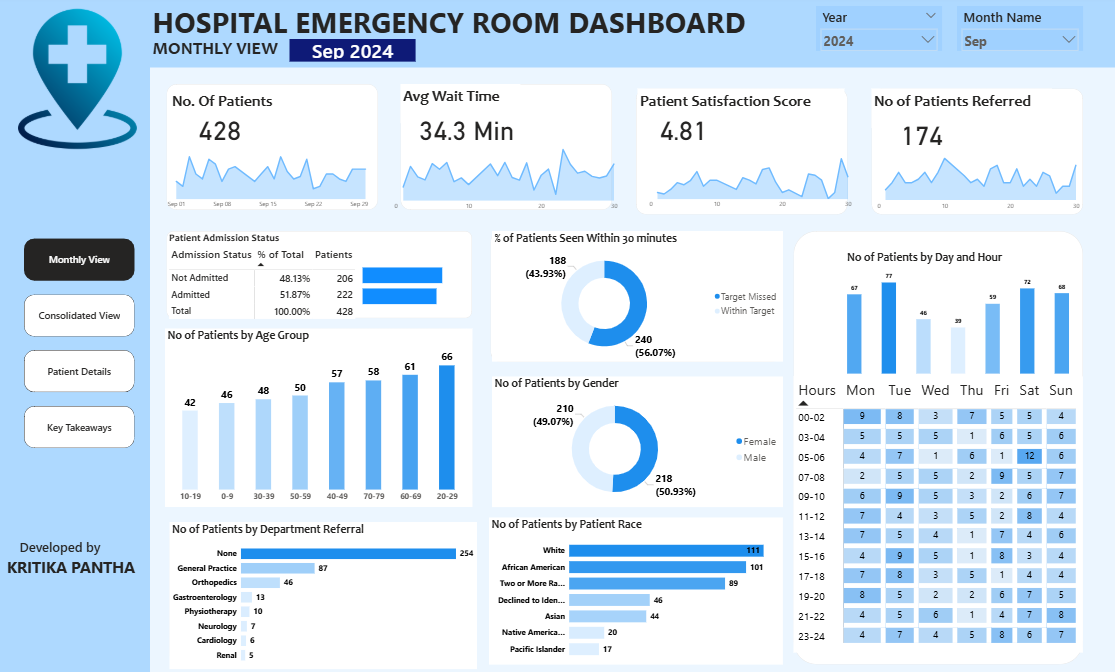

Layout of this report page (visuals, bound fields, positions):
{"tool":"powerbi","page":{"name":"Monthly View","canvas":[2300,1400],"ordinal":0},"visuals":[{"type":"shape","box":[343.3,173.2,436.1,259.8],"z":0},{"type":"textbox","box":[349.5,182.5,256.7,71.1],"z":1000},{"type":"shape","box":[0,0,309.3,1401.1],"z":2000},{"type":"shape","box":[309.3,0,1991.8,139.2],"z":3000},{"type":"textbox","box":[309.3,0,1246.4,92.8],"z":4000},{"type":"textbox","box":[309.3,71.1,355.7,68],"z":5000},{"type":"card","fields":{"Values":["Hospital ER_Data.No of Patients"]},"box":[371.1,222.7,163.9,80.4],"z":6000},{"type":"slicer","fields":{"Values":["Date Table.Year"]},"box":[1682.5,12.4,259.8,92.8],"z":7000},{"type":"slicer","fields":{"Values":["Date Table.month name"]},"box":[1973.2,12.4,259.8,92.8],"z":8000},{"type":"stackedAreaChart","fields":{"Category":["Date Table.Date.Variation.Date Hierarchy.Year","Date Table.Date.Variation.Date Hierarchy.Quarter","Date Table.Date.Variation.Date Hierarchy.Month","Date Table.Date.Variation.Date Hierarchy.Day"],"Y":["Hospital ER_Data.No of Patients"]},"box":[340.2,293.8,436.1,145.4],"z":9000},{"type":"card","fields":{"Values":["Min(Date Table.Month & Year)"]},"box":[596.9,80.4,259.8,46.4],"z":10000},{"type":"shape","box":[825.8,173.9,436.1,259.8],"z":11000},{"type":"textbox","box":[825.8,173.2,247.4,80.4],"z":12000},{"type":"card","fields":{"Values":["Hospital ER_Data.Avg Wait Time"]},"box":[850.5,222.7,222.7,80.4],"z":13000},{"type":"stackedAreaChart","fields":{"Category":["Date Table.Date.Variation.Date Hierarchy.Day"],"Y":["Avg(Hospital ER_Data.Patient Waittime)"]},"box":[801,278.4,479.4,163.9],"z":14000},{"type":"shape","box":[1311.4,182.5,436.1,259.8],"z":15000},{"type":"textbox","box":[1314.5,182.5,426.8,80.4],"z":16000},{"type":"card","fields":{"Values":["Hospital ER_Data.Satisfaction Score"]},"box":[1326.8,222.7,163.9,80.4],"z":17000},{"type":"stackedAreaChart","fields":{"Category":["Date Table.Date.Variation.Date Hierarchy.Day"],"Y":["Hospital ER_Data.Satisfaction Score"]},"box":[1326.8,293.8,436.1,145.4],"z":18000},{"type":"shape","box":[1796.9,182.5,436.1,259.8],"z":19000},{"type":"textbox","box":[1796.9,182.5,371.1,80.4],"z":20000},{"type":"card","fields":{"Values":["Hospital ER_Data.No of Patient Referred"]},"box":[1818.6,232,163.9,80.4],"z":21000},{"type":"stackedAreaChart","fields":{"Category":["Date Table.Date.Variation.Date Hierarchy.Day"],"Y":["Hospital ER_Data.No of Patient Referred"]},"box":[1796.9,290.7,436.1,151.5],"z":22000},{"type":"shape","box":[343.3,476.3,630,180],"z":23000},{"type":"pivotTable","title":"Patient Admission Status","fields":{"Rows":["Hospital ER_Data.Admission Status"],"Values":["Hospital ER_Data.No of Patients","Hospital ER_Data.No of Patients1"]},"box":[343.3,476.3,630.9,201],"z":24000},{"type":"barChart","fields":{"Category":["Hospital ER_Data.Admission Status"],"Y":["Hospital ER_Data.No of Patients"]},"box":[742.3,516.5,232,139.2],"z":25000},{"type":"shape","box":[340.2,677.3,634,368],"z":26000},{"type":"clusteredColumnChart","fields":{"Category":["Hospital ER_Data.Age Group"],"Y":["Hospital ER_Data.No of Patients"]},"box":[340.2,677.3,634,368],"z":27000},{"type":"shape","box":[349.5,1076.3,634,293.8],"z":28000},{"type":"shape","box":[1011.4,476.3,600,270],"z":29000},{"type":"clusteredBarChart","fields":{"Category":["Hospital ER_Data.Department Referral"],"Y":["Hospital ER_Data.No of Patients"]},"box":[349.5,1076.3,634,303.1],"z":30000},{"type":"donutChart","title":"% of Patients Seen Within 30 minutes","fields":{"Category":["Hospital ER_Data.Waittime Status"],"Y":["Hospital ER_Data.No of Patients"]},"box":[1014.5,476.3,600,269.1],"z":31000},{"type":"donutChart","title":"No of Patients by Gender","fields":{"Y":["Hospital ER_Data.No of Patients"],"Category":["Hospital ER_Data.Patient Gender"]},"box":[1014.5,776.3,600,269.1],"z":32000},{"type":"clusteredBarChart","fields":{"Y":["Hospital ER_Data.No of Patients"],"Category":["Hospital ER_Data.Patient Race"]},"box":[1008.3,1067,606.2,303.1],"z":33000},{"type":"shape","box":[1636.1,476.3,596.9,893.8],"z":34000},{"type":"pivotTable","fields":{"Rows":["Hospital ER_Data.Waittime Interval"],"Columns":["Date Table.Day Name"],"Values":["Hospital ER_Data.No of Patients"]},"box":[1636.1,776.3,596.9,569.1],"z":35000},{"type":"clusteredColumnChart","title":"No of Patients by Day and Hour","fields":{"Category":["Date Table.Day Name"],"Y":["Hospital ER_Data.No of Patients"]},"box":[1741.3,516.5,470.1,259.8],"z":36000},{"type":"image","box":[9.3,12.4,300,300],"z":37000},{"type":"pageNavigator","box":[49.5,491.8,228.9,433],"z":38000},{"type":"textbox","box":[0,1098,309.3,129.9],"z":39000}]}

Visuals, with their boxes in screenshot pixels (x1, y1, x2, y2), scaled from the page's 2300x1400 canvas onto the 1115x672 screenshot:
shape: 166/83/378/208
textbox: 169/88/294/122
shape: 0/0/150/671
shape: 150/0/1114/67
textbox: 150/0/754/45
textbox: 150/34/322/67
card - Hospital ER_Data.No of Patients: 180/107/259/145
slicer - Date Table.Year: 816/6/942/50
slicer - Date Table.month name: 957/6/1083/50
stackedAreaChart - Date Table.Date.Variation.Date Hierarchy.Year x Date Table.Date.Variation.Date Hierarchy.Quarter: 165/141/376/211
card - Min(Date Table.Month & Year): 289/39/415/61
shape: 400/83/612/208
textbox: 400/83/520/122
card - Hospital ER_Data.Avg Wait Time: 412/107/520/145
stackedAreaChart - Date Table.Date.Variation.Date Hierarchy.Day x Avg(Hospital ER_Data.Patient Waittime): 388/134/621/212
shape: 636/88/847/212
textbox: 637/88/844/126
card - Hospital ER_Data.Satisfaction Score: 643/107/723/145
stackedAreaChart - Date Table.Date.Variation.Date Hierarchy.Day x Hospital ER_Data.Satisfaction Score: 643/141/855/211
shape: 871/88/1083/212
textbox: 871/88/1051/126
card - Hospital ER_Data.No of Patient Referred: 882/111/961/150
stackedAreaChart - Date Table.Date.Variation.Date Hierarchy.Day x Hospital ER_Data.No of Patient Referred: 871/140/1083/212
shape: 166/229/472/315
"Patient Admission Status" pivotTable: 166/229/472/325
barChart - Hospital ER_Data.Admission Status x Hospital ER_Data.No of Patients: 360/248/472/315
shape: 165/325/472/502
clusteredColumnChart - Hospital ER_Data.Age Group x Hospital ER_Data.No of Patients: 165/325/472/502
shape: 169/517/477/658
shape: 490/229/781/358
clusteredBarChart - Hospital ER_Data.Department Referral x Hospital ER_Data.No of Patients: 169/517/477/662
"% of Patients Seen Within 30 minutes" donutChart: 492/229/783/358
"No of Patients by Gender" donutChart: 492/373/783/502
clusteredBarChart - Hospital ER_Data.No of Patients x Hospital ER_Data.Patient Race: 489/512/783/658
shape: 793/229/1083/658
pivotTable - Hospital ER_Data.Waittime Interval x Date Table.Day Name: 793/373/1083/646
"No of Patients by Day and Hour" clusteredColumnChart: 844/248/1072/373
image: 5/6/150/150
pageNavigator: 24/236/135/444
textbox: 0/527/150/589
